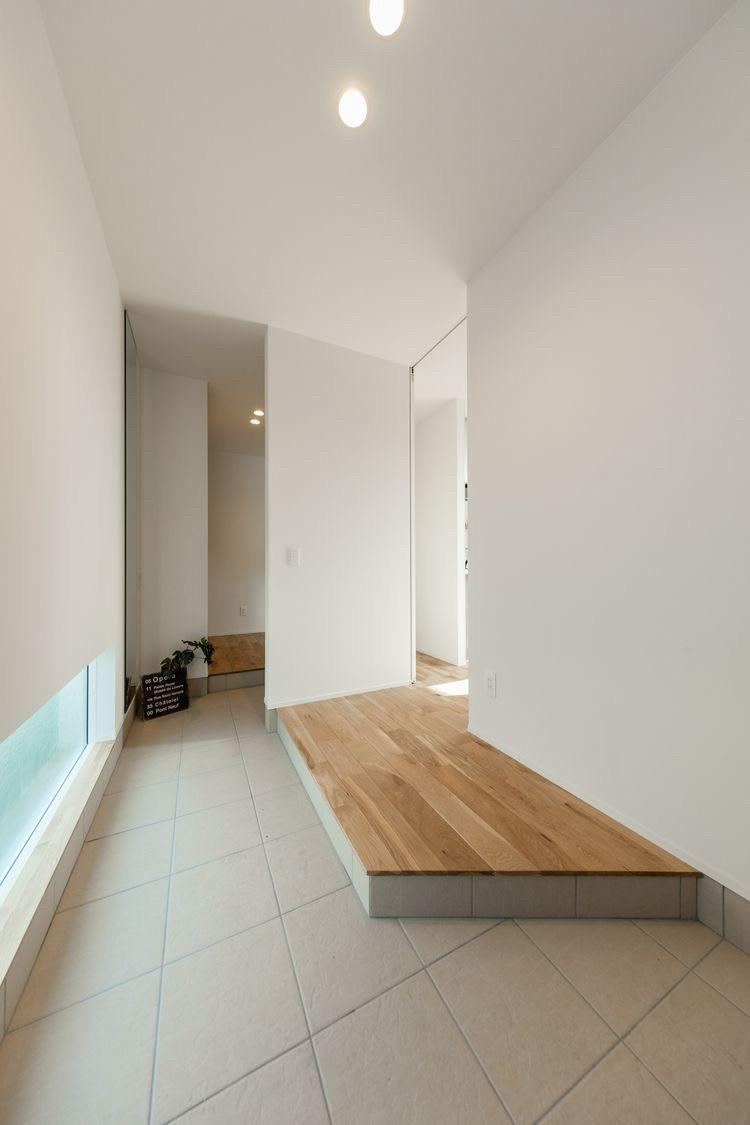floor: (0, 685, 749, 1124)
safe: (275, 650, 701, 872), (208, 632, 265, 675)
